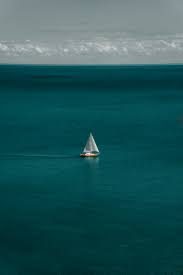boat: (79, 130, 105, 161)
